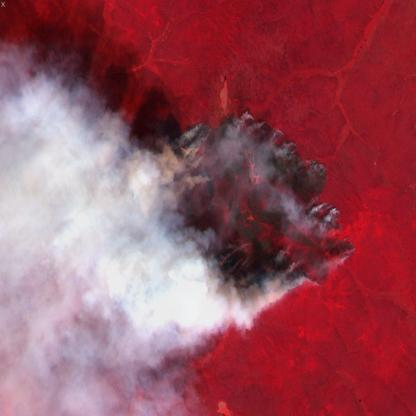fire: (160, 108, 362, 323)
